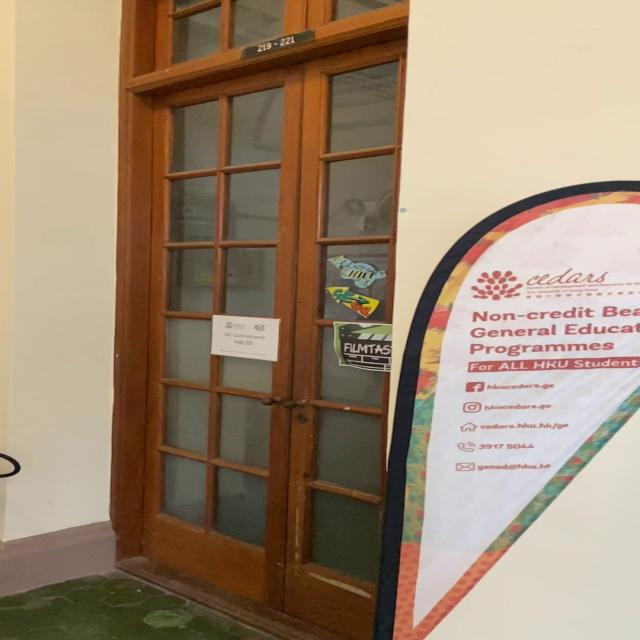room221: (239, 28, 316, 62)
